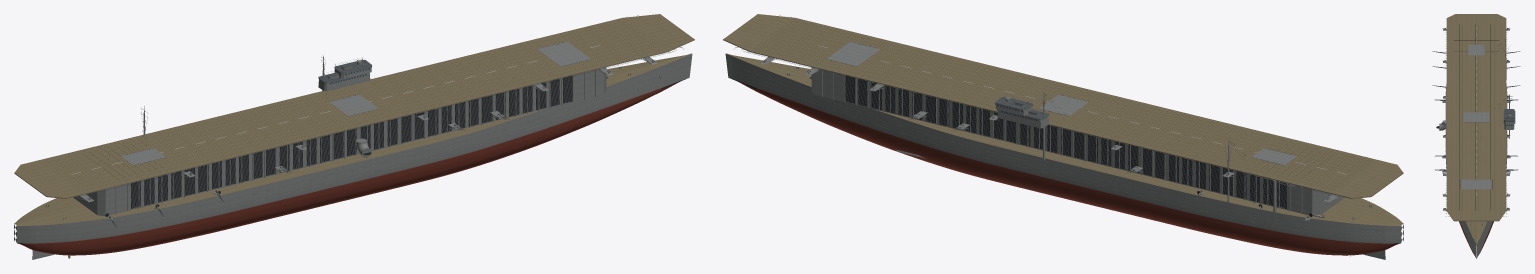
Rendered from demo-akagi1942.glb.
The picture shows the model from 3 angles, left to right: view 1: azimuth 30°, elevation 25°; view 2: azimuth 150°, elevation 25°; view 3: azimuth 270°, elevation 25°; orthographic projection. The views are drawn at different scales.
Visible parts, largest first — view 1: Akagi, rebuilt1938 / Midway1942; view 2: Akagi, rebuilt1938 / Midway1942; view 3: Akagi, rebuilt1938 / Midway1942.
Boxes of the visible parts, left/top/right/bottom form: Akagi, rebuilt1938 / Midway1942: left=14, top=14, right=694, bottom=259; Akagi, rebuilt1938 / Midway1942: left=723, top=14, right=1403, bottom=259; Akagi, rebuilt1938 / Midway1942: left=1432, top=14, right=1520, bottom=258.
Bounding box in the file's own units: 261 × 40.71 × 44.85.
10 materials, 9 textured.
